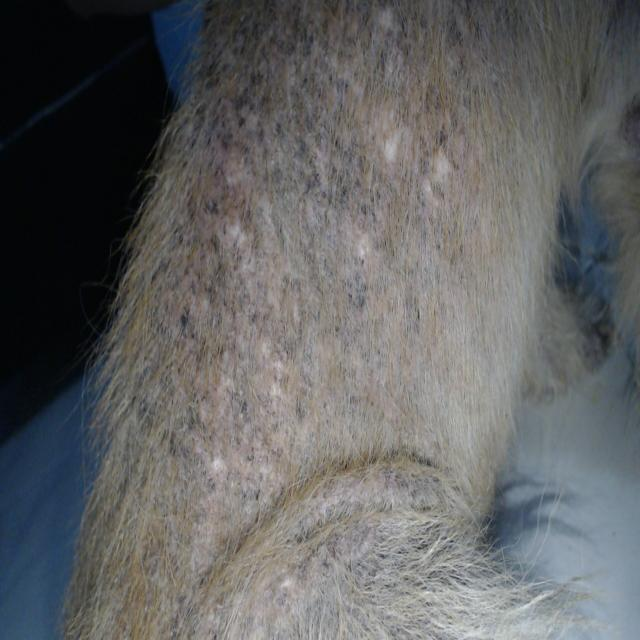demodicosis: (186, 20, 429, 275), (131, 316, 290, 513), (317, 449, 403, 568)
